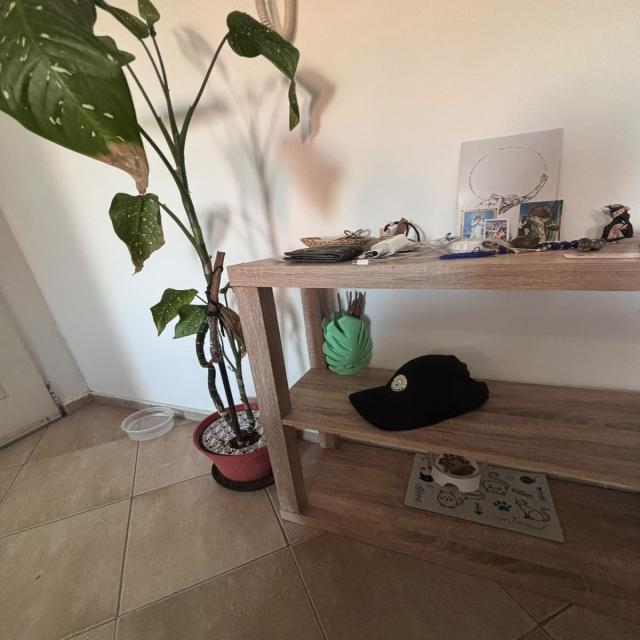Gorra: (341, 349, 501, 436)
